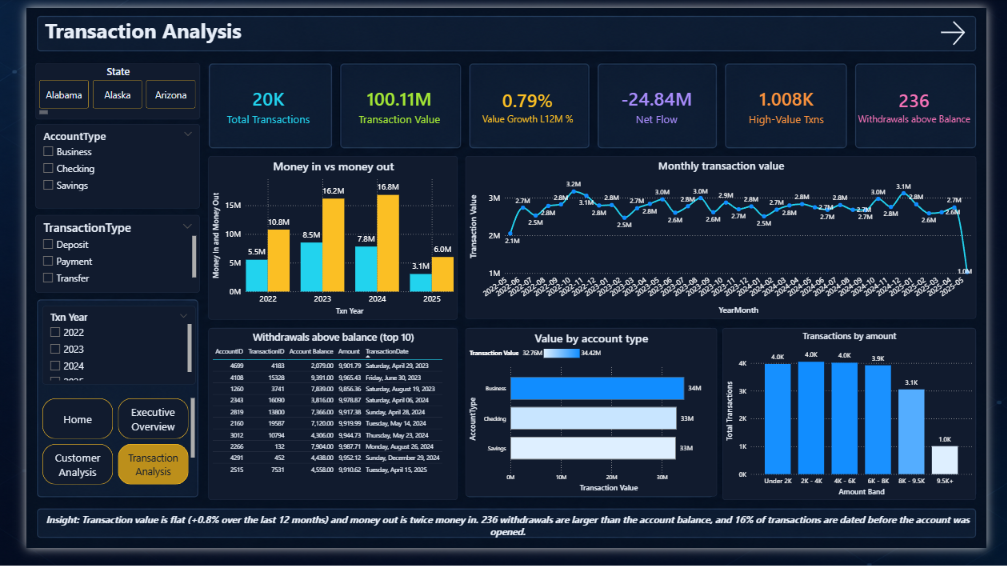

What the dashboard file says about the page in this screenshot:
{"tool":"powerbi","page":{"name":"Transaction Analysis","canvas":[1920,1080],"ordinal":3},"visuals":[{"type":"cardVisual","fields":{"Data":["_Measures.Total Transactions"]},"box":[336.8,108.6,296.3,174.8],"z":0},{"type":"cardVisual","fields":{"Data":["_Measures.Value Growth L12M %"]},"box":[862.2,108.5,281.7,175.1],"z":1000},{"type":"cardVisual","fields":{"Data":["_Measures.High-Value Txns"]},"box":[1395.1,108.6,248.5,174.8],"z":2000},{"type":"cardVisual","fields":{"Data":["_Measures.Net Flow"]},"box":[1143,108.6,237.4,174.8],"z":3000},{"type":"cardVisual","fields":{"Data":["_Measures.Transaction Value"]},"box":[589,108.6,316.6,174.8],"z":4000},{"type":"cardVisual","fields":{"Data":["_Measures.Withdrawals above Balance"]},"box":[1629.2,108.5,291.2,175.1],"z":5000},{"type":"clusteredColumnChart","title":"Money in vs money out","fields":{"Y":["_Measures.Money In","_Measures.Money Out"],"Category":["fact_transactions.Txn Year"]},"box":[364.3,295.7,498.6,327.1],"z":6000},{"type":"lineChart","title":"Monthly transaction value\t","fields":{"Category":["dim_date.YearMonth"],"Y":["_Measures.Transaction Value"]},"box":[877.9,296.3,1021.5,325.8],"z":7000},{"type":"tableEx","title":"Withdrawals above balance (top 10)","fields":{"Values":["dim_accounts.AccountID","fact_transactions.TransactionID","fact_transactions.Account Balance","fact_transactions.Amount","fact_transactions.TransactionDate"]},"box":[364.3,640,498.6,344.3],"z":8000},{"type":"columnChart","title":"Transactions by amount","fields":{"Y":["_Measures.Total Transactions"],"Category":["fact_transactions.Amount Band"]},"box":[1392.9,640,507.1,344.3],"z":9000},{"type":"advancedSlicerVisual","title":"State","fields":{"Values":["dim_customers.State"]},"box":[18,109,329,113],"z":10000},{"type":"slicer","fields":{"Values":["dim_accounts.AccountType"]},"box":[18,232,329,169],"z":11000},{"type":"slicer","fields":{"Values":["fact_transactions.TransactionType"]},"box":[18,414.2,329,154.8],"z":12000},{"type":"slicer","fields":{"Values":["fact_transactions.Txn Year"]},"box":[31,595,306,157],"z":13000},{"type":"textbox","title":"Transaction Analysis","box":[31.3,16.6,1746.6,92],"z":14000},{"type":"pageNavigator","box":[31.3,780.4,305.5,178.5],"z":15000},{"type":"actionButton","box":[1821.4,19.5,69.9,60.7],"z":16000},{"type":"clusteredBarChart","title":"Value by account type","fields":{"Category":["dim_accounts.AccountType"],"Y":["_Measures.Transaction Value"]},"box":[877.1,640,502.9,337.1],"z":17000},{"type":"textbox","title":"Insight: Transaction value is flat (+0.8% over the last 12 months) and money out is twice money in. 236 withdrawals are larger than the account balance, and 16% of transactions are dated before the ac","box":[31.3,1010.4,1860.7,49.7],"z":18000}]}

Visuals, with their boxes in screenshot pixels (x1, y1, x2, y2), scaled from the page's 1920x1080 canvas onto the 1007x566 screenshot:
cardVisual - _Measures.Total Transactions: bbox=(177, 57, 332, 149)
cardVisual - _Measures.Value Growth L12M %: bbox=(452, 57, 600, 149)
cardVisual - _Measures.High-Value Txns: bbox=(732, 57, 862, 149)
cardVisual - _Measures.Net Flow: bbox=(599, 57, 724, 149)
cardVisual - _Measures.Transaction Value: bbox=(309, 57, 475, 149)
cardVisual - _Measures.Withdrawals above Balance: bbox=(854, 57, 1006, 149)
"Money in vs money out" clusteredColumnChart: bbox=(191, 155, 453, 326)
"Monthly transaction value	" lineChart: bbox=(460, 155, 996, 326)
"Withdrawals above balance (top 10)" tableEx: bbox=(191, 335, 453, 516)
"Transactions by amount" columnChart: bbox=(731, 335, 997, 516)
"State" advancedSlicerVisual: bbox=(9, 57, 182, 116)
slicer - dim_accounts.AccountType: bbox=(9, 122, 182, 210)
slicer - fact_transactions.TransactionType: bbox=(9, 217, 182, 298)
slicer - fact_transactions.Txn Year: bbox=(16, 312, 177, 394)
"Transaction Analysis" textbox: bbox=(16, 9, 932, 57)
pageNavigator: bbox=(16, 409, 177, 503)
actionButton: bbox=(955, 10, 992, 42)
"Value by account type" clusteredBarChart: bbox=(460, 335, 724, 512)
"Insight: Transaction value is flat (+0.8% over the last 12 months) and money out is twice money in. 236 withdrawals are larger than the account balance, and 16% of transactions are dated before the ac" textbox: bbox=(16, 530, 992, 556)
